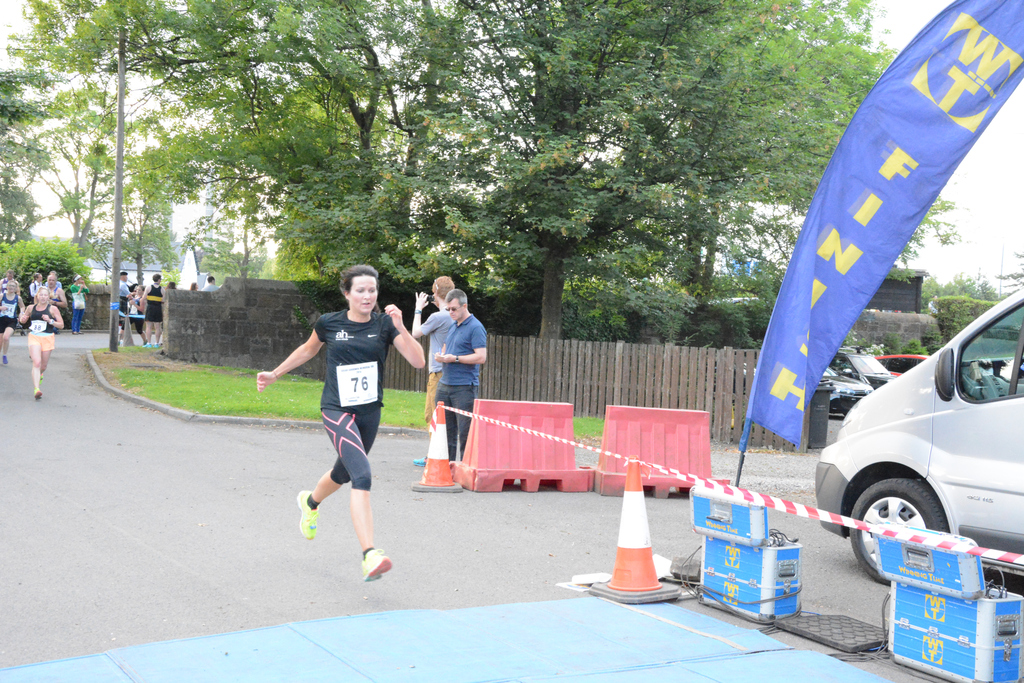Footwear: (356, 544, 392, 584), (298, 488, 323, 537), (35, 386, 41, 393)
